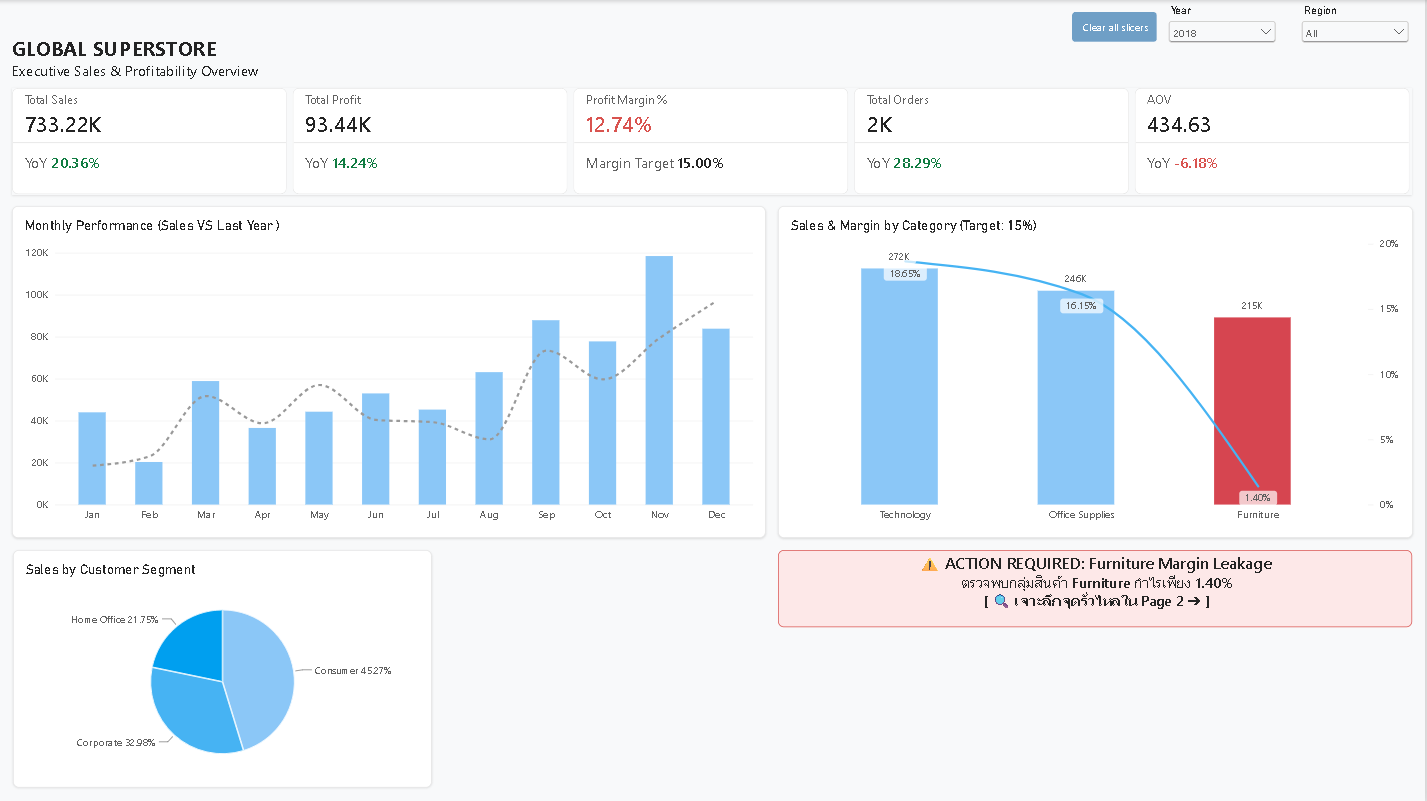

This screenshot's page, from the dashboard's own definition file:
{"tool":"powerbi","page":{"name":"Executive Overview","canvas":[1920,1080],"ordinal":0},"visuals":[{"type":"cardVisual","fields":{"Data":["_Measures.Total Sales","_Measures.Total Profit","_Measures.Profit Margin %","_Measures.Total Orders","_Measures.AOV"]},"box":[16.6,117.9,1885.2,143.6],"z":0},{"type":"slicer","fields":{"Values":["Dim_Date.Year"]},"box":[1569.3,6,154.2,80.1],"z":1000},{"type":"lineClusteredColumnComboChart","title":"Monthly Performance (Sales VS Last Year )","fields":{"Category":["Dim_Date.Month Name"],"Y":["_Measures.Total Sales"],"Y2":["_Measures.Sales LY"]},"box":[16.2,277.4,1015.4,447.1],"z":2000},{"type":"lineClusteredColumnComboChart","title":"Sales & Margin by Category (Target: 15%)","fields":{"Category":["Fact_Orders.Category"],"Y":["_Measures.Total Sales"],"Y2":["_Measures.Profit Margin %"]},"box":[1047.7,277.4,855.1,447.1],"z":3000},{"type":"pieChart","title":"Sales by Customer Segment","fields":{"Category":["Fact_Orders.Segment"],"Y":["_Measures.Total Sales"]},"box":[17.1,740,564.3,320],"z":4000},{"type":"textbox","box":[16.2,45.8,1131.2,72.7],"z":5000},{"type":"slicer","fields":{"Values":["Fact_Orders.Region"]},"box":[1747.7,6,154.2,80.1],"z":6000},{"type":"textbox","box":[1047.7,740.6,853.8,103.7],"z":7000},{"type":"actionButton","box":[1443.6,16.2,114.5,40.4],"z":8000}]}

Visuals, with their boxes in screenshot pixels (x1, y1, x2, y2), scaled from the page's 1920x1080 canvas onto the 1427x801 screenshot:
cardVisual - _Measures.Total Sales x _Measures.Total Profit: bbox=[12, 87, 1413, 194]
slicer - Dim_Date.Year: bbox=[1166, 4, 1281, 64]
"Monthly Performance (Sales VS Last Year )" lineClusteredColumnComboChart: bbox=[12, 206, 767, 537]
"Sales & Margin by Category (Target: 15%)" lineClusteredColumnComboChart: bbox=[779, 206, 1414, 537]
"Sales by Customer Segment" pieChart: bbox=[13, 549, 432, 786]
textbox: bbox=[12, 34, 853, 88]
slicer - Fact_Orders.Region: bbox=[1299, 4, 1414, 64]
textbox: bbox=[779, 549, 1413, 626]
actionButton: bbox=[1073, 12, 1158, 42]
